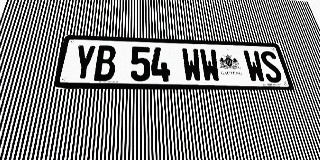4: (150, 47, 171, 82)
5: (131, 46, 151, 81)
B: (94, 45, 116, 81)
S: (259, 51, 284, 83)
W: (242, 50, 267, 83), (181, 48, 203, 82), (199, 49, 221, 82)
Y: (71, 45, 96, 81)
